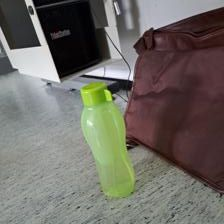bottle: (79, 82, 136, 200)
